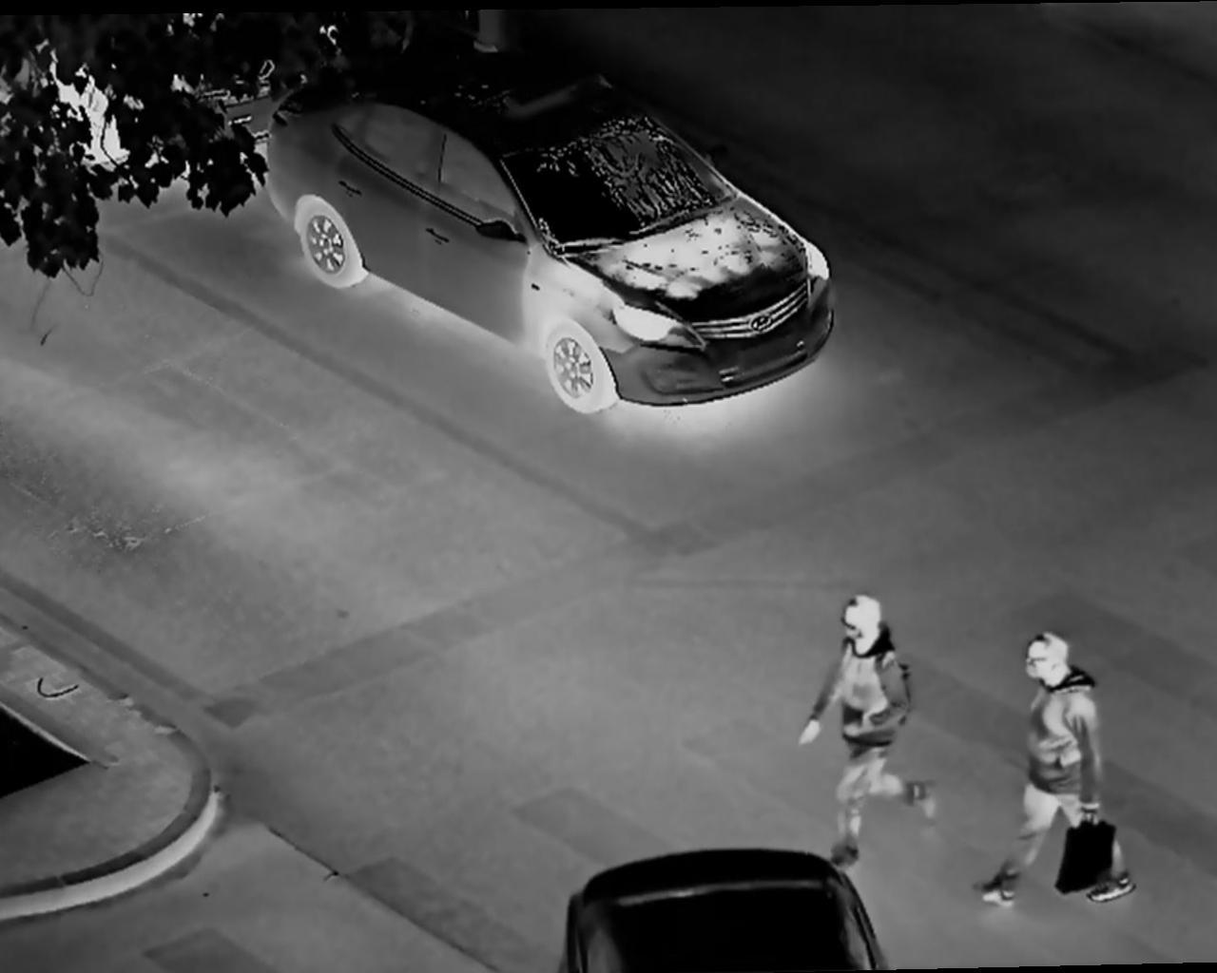person: (973, 628, 1140, 918), (801, 588, 953, 861)
